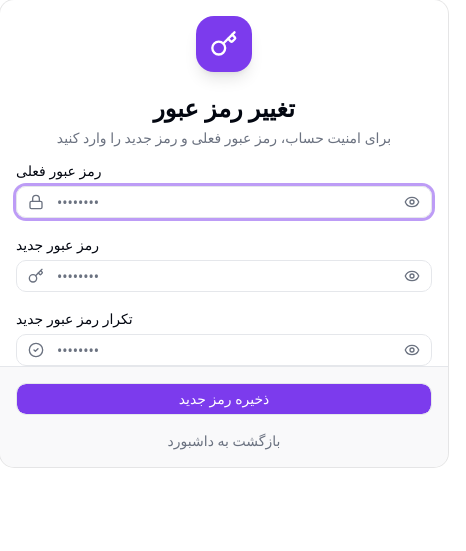
Scenario: SettingsPasswordForm › shows translated error when current password is incorrect
The image size is (466, 551).
In the password field labelled "رمز عبور فعلی": (224, 202) [16, 186, 432, 218], type "WrongPass!"
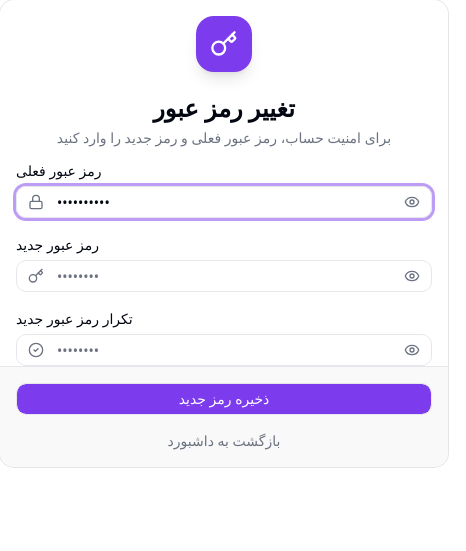
In the password field labelled "رمز عبور جدید": (224, 276) [16, 260, 432, 292], type "NewPass123!"
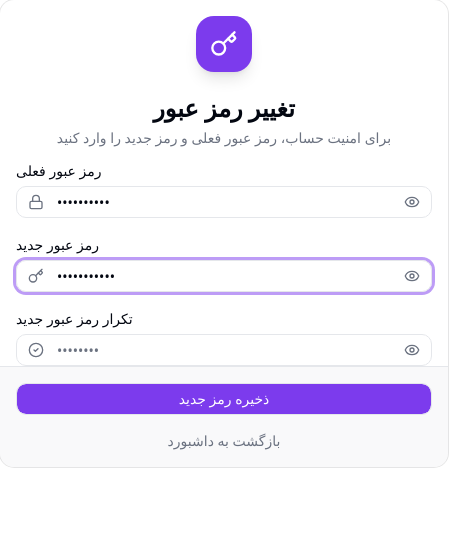
In the password field labelled "تکرار رمز عبور جدید": (224, 350) [16, 334, 432, 366], type "NewPass123!"
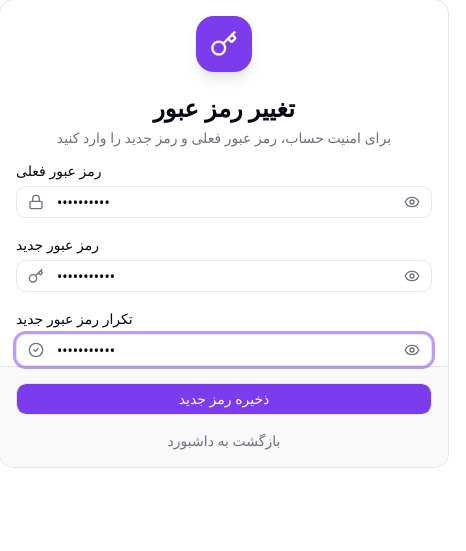
Click the button "ذخیره رمز جدید": (224, 399) [16, 383, 432, 415]
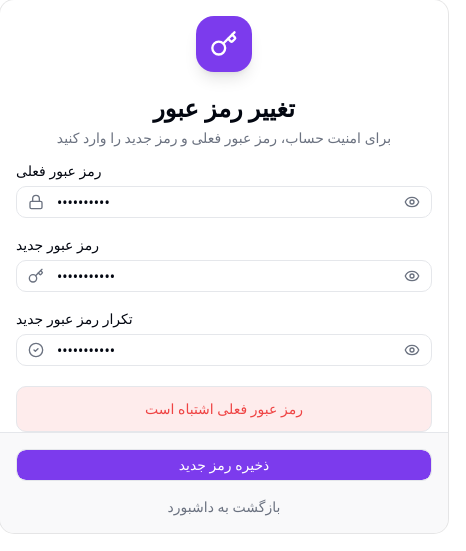
Now the text "رمز عبور فعلی اشتباه است" is shown, box [145, 399, 303, 418]
